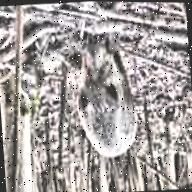boar: (53, 24, 152, 167)
